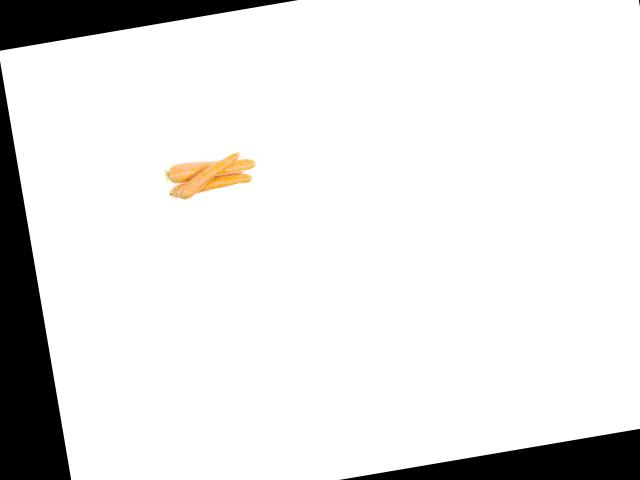carrot: (161, 167, 255, 201)
